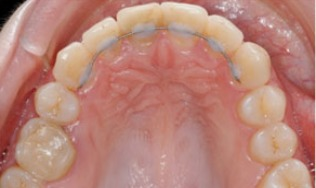UL1BC_healthy: (241, 87, 285, 125)
UL2BC_healthy: (249, 124, 295, 162)
ULCI_decay: (164, 2, 207, 48)
ULC_decay: (230, 41, 269, 88)
ULLI_decay: (207, 15, 243, 62)
UR1BC_healthy: (35, 83, 79, 124)
UR2BC_healthy: (16, 118, 75, 181)
URCI_decay: (118, 3, 162, 42)
URC_decay: (55, 43, 96, 89)
URLI_decay: (84, 18, 117, 56)
